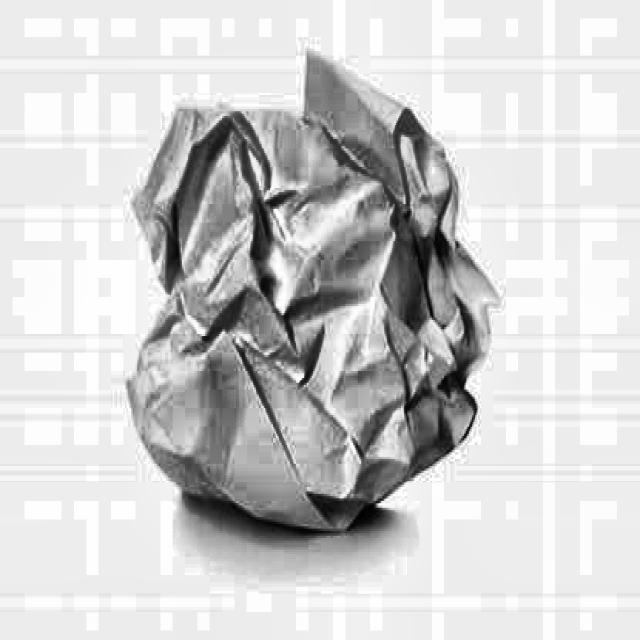Paper: (116, 33, 506, 538)
